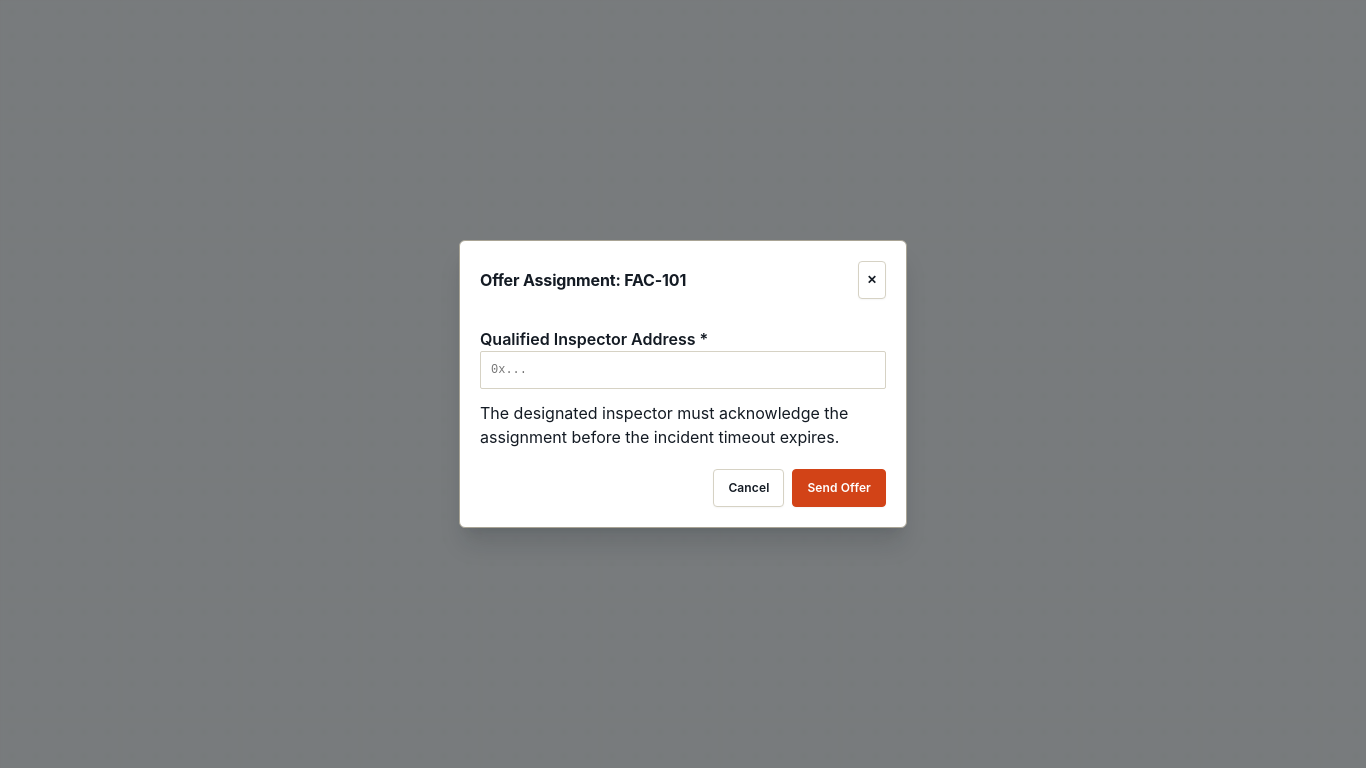
Test: UI Components, Role Gating, and Modal Validation › OfferAssignmentModal rejects invalid inspector address
Click the button "Send Offer" at (839, 488), box [792,469,886,507]
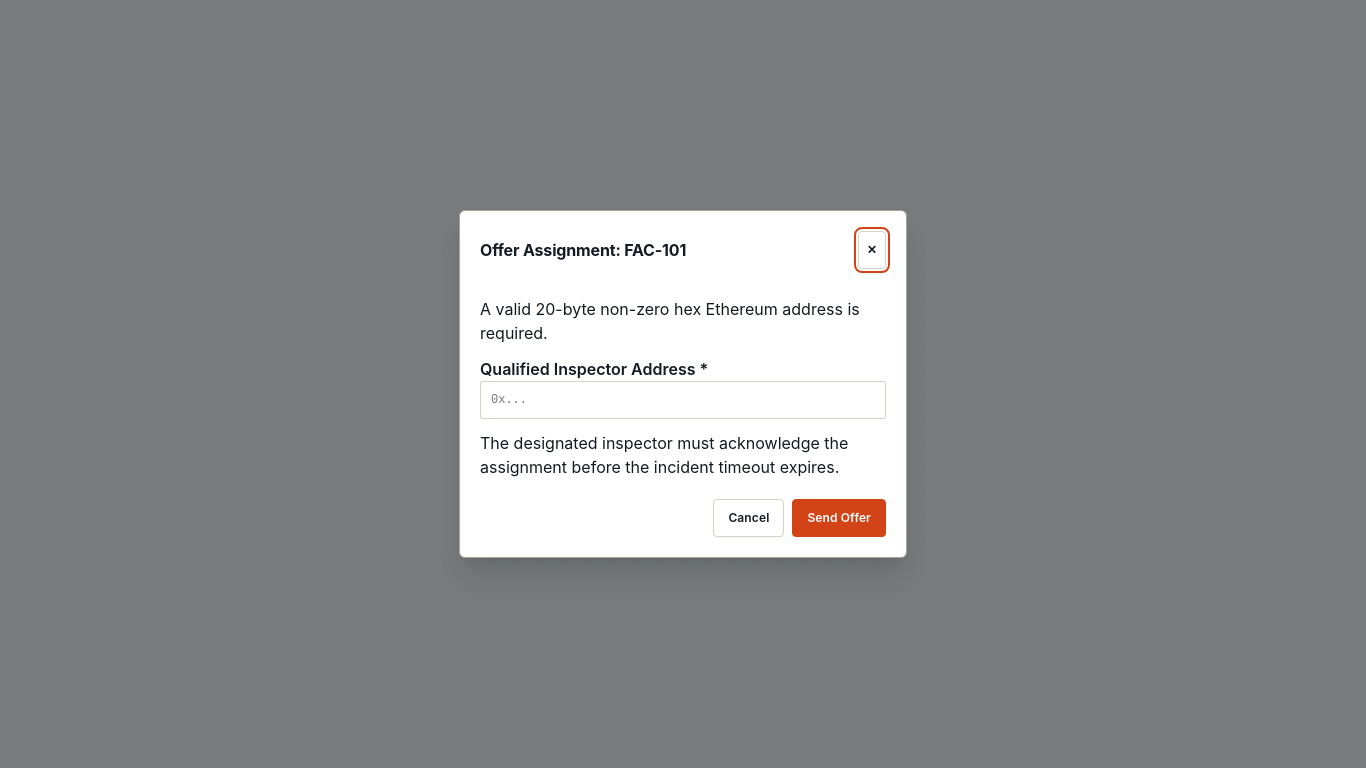
Now the text "A valid 20-byte non-zero hex Ethereum address is required." is shown, box [480,297,886,345]
